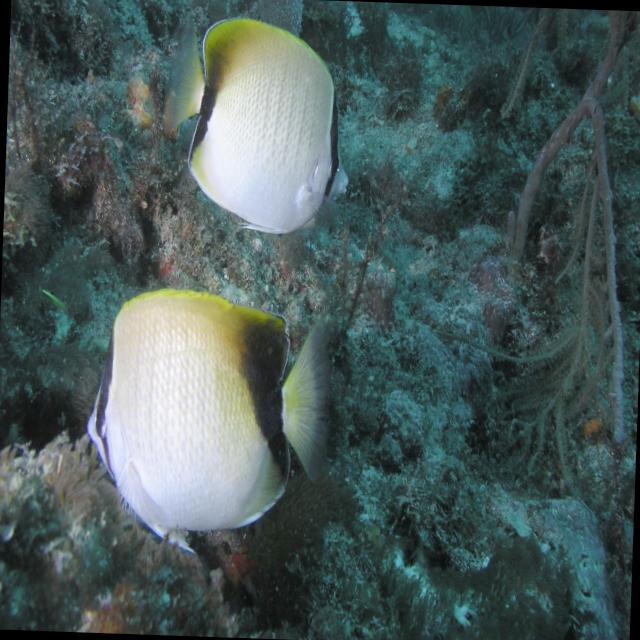ButterflyFish: (86, 288, 337, 556), (165, 12, 358, 229)
